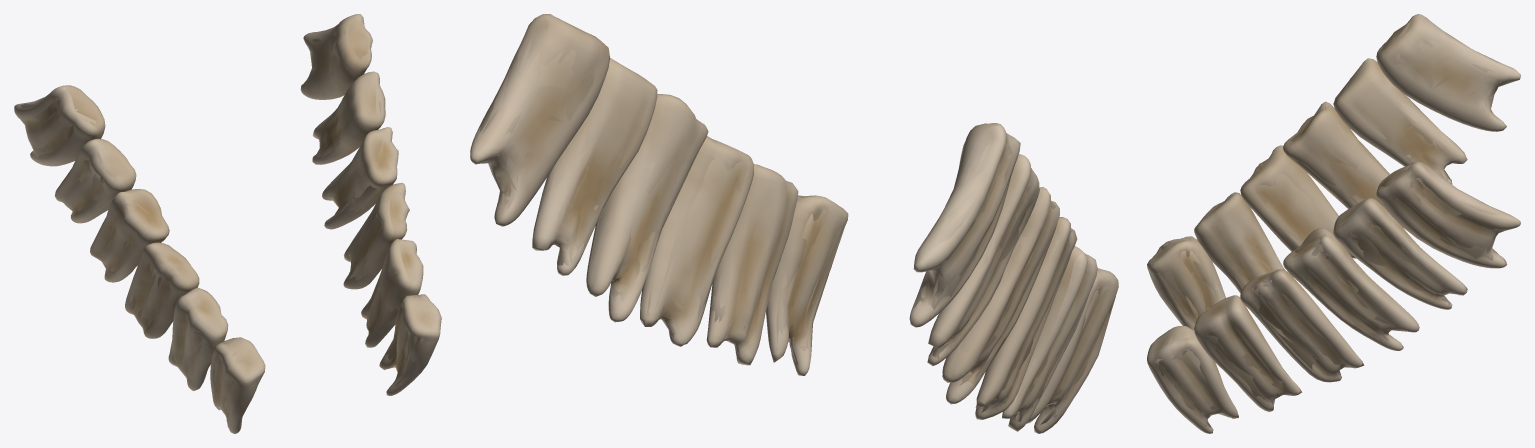
File: Teeth Lower.fbx
3 renders of one model, left to right at view 1: azimuth 30°, elevation 25°; view 2: azimuth 150°, elevation 25°; view 3: azimuth 270°, elevation 25°, orthographic. The views are drawn at different scales.
Parts seen in each view (by area): view 1: Teeth Lower, Teeth Lower low; view 2: Teeth Lower, Teeth Lower low; view 3: Teeth Lower, Teeth Lower low.
Part boxes in pixels (box(x1,y1,x2,y2)): Teeth Lower: box(14, 14, 441, 433); Teeth Lower low: box(20, 18, 441, 418); Teeth Lower: box(470, 14, 1118, 433); Teeth Lower low: box(479, 24, 1112, 424); Teeth Lower: box(1147, 14, 1520, 433); Teeth Lower low: box(1150, 18, 1514, 427).
Size of the model in its own units: 15.42 by 13.76 by 15.38.
Materials: 1 (1 with a texture image).
